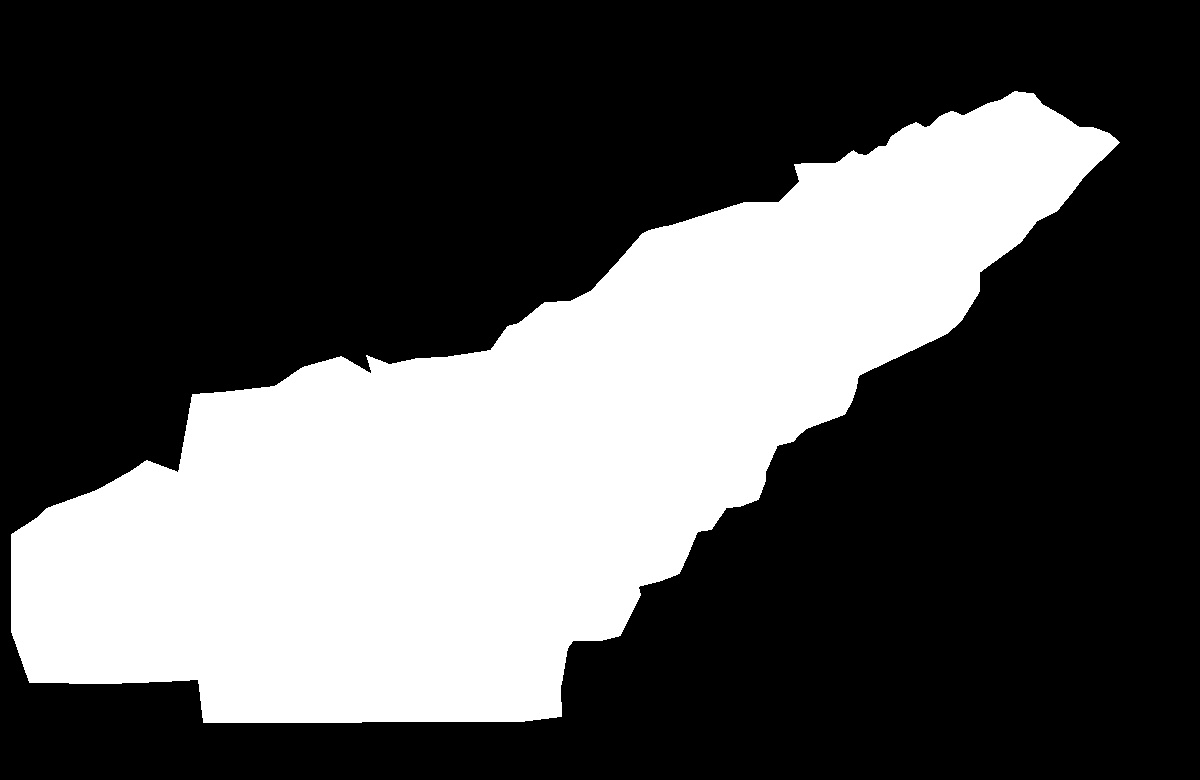Fire: (1, 95, 1121, 691)
